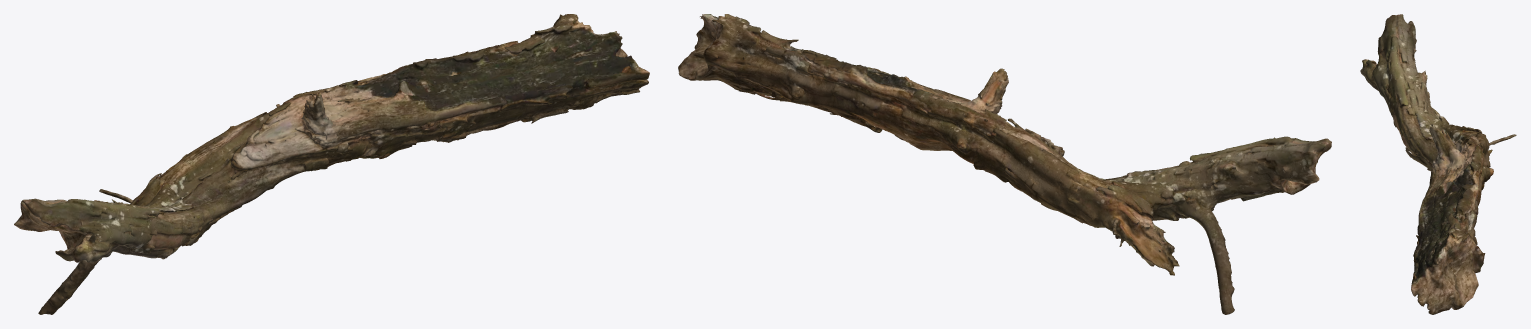
File: dead_burnt_tree_low.glb
The picture shows the model from 3 angles, left to right: view 1: azimuth 30°, elevation 25°; view 2: azimuth 150°, elevation 25°; view 3: azimuth 270°, elevation 25°; orthographic projection. The views are drawn at different scales.
Parts seen in each view (by area): view 1: dead_tree_trunk_02; view 2: dead_tree_trunk_02; view 3: dead_tree_trunk_02.
Part boxes in pixels (left/top/right/bottom): dead_tree_trunk_02: left=14, top=14, right=649, bottom=314; dead_tree_trunk_02: left=678, top=14, right=1331, bottom=314; dead_tree_trunk_02: left=1360, top=14, right=1516, bottom=314.
Bounding box in the file's own units: 4.05 × 1.06 × 1.06.
Materials: 1 (1 with a texture image).
